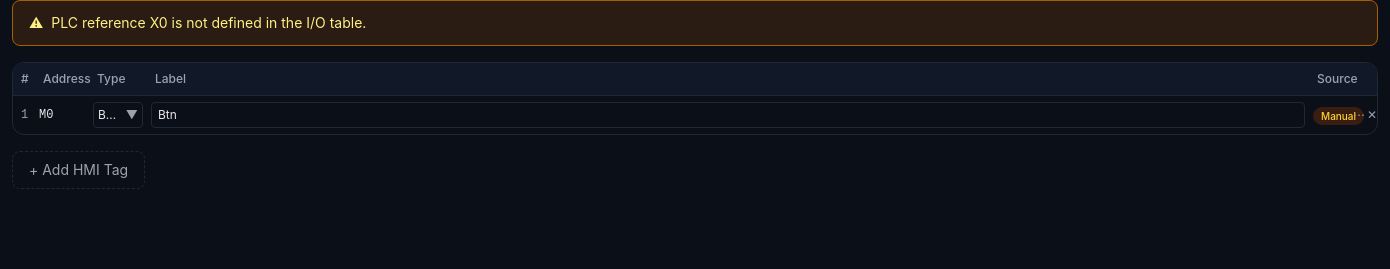
Test: HMITagTable › expandable row (M12.1.3) › renders plcRef/comment inputs in expandable row when ⋯ is clicked
Click the button with test id "hmi-more-0" at (1359, 115), box [1353,103,1365,127]
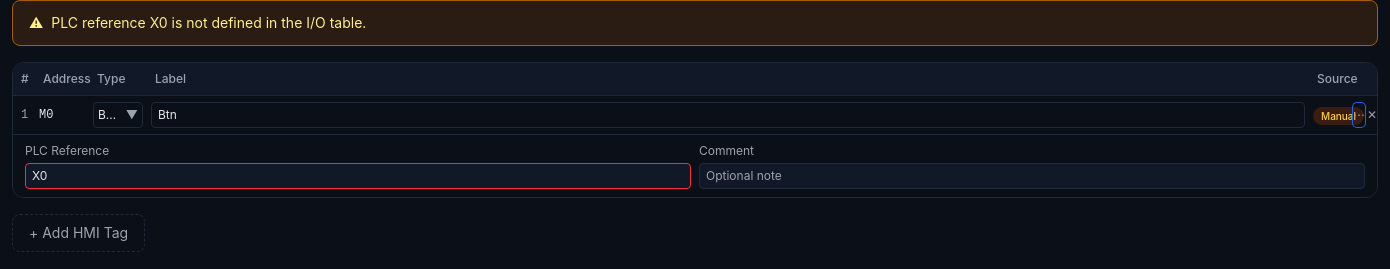
Result: the row with test id "hmi-more-row-0" is shown at [13,134,1377,197]
Result: the field with test id "hmi-plcref-0" is shown at [25,163,691,189]
Result: the field with test id "hmi-comment-0" is shown at [699,163,1365,189]
